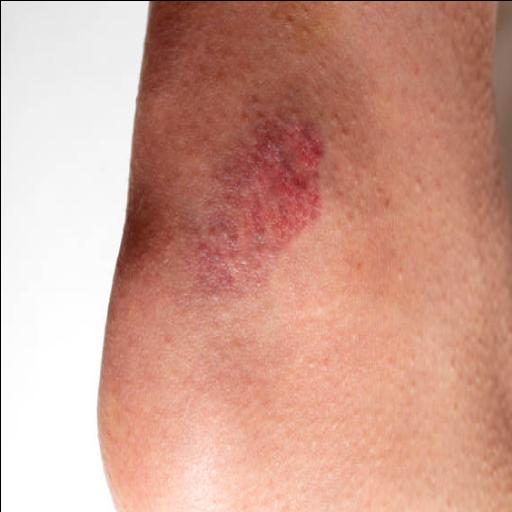bruises: (230, 122, 314, 274)
